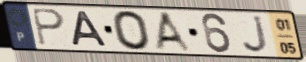6: (200, 12, 232, 55)
A: (153, 11, 196, 54), (70, 10, 110, 49)
J: (241, 15, 271, 56)
O: (110, 9, 153, 52)
P: (30, 7, 68, 48)
